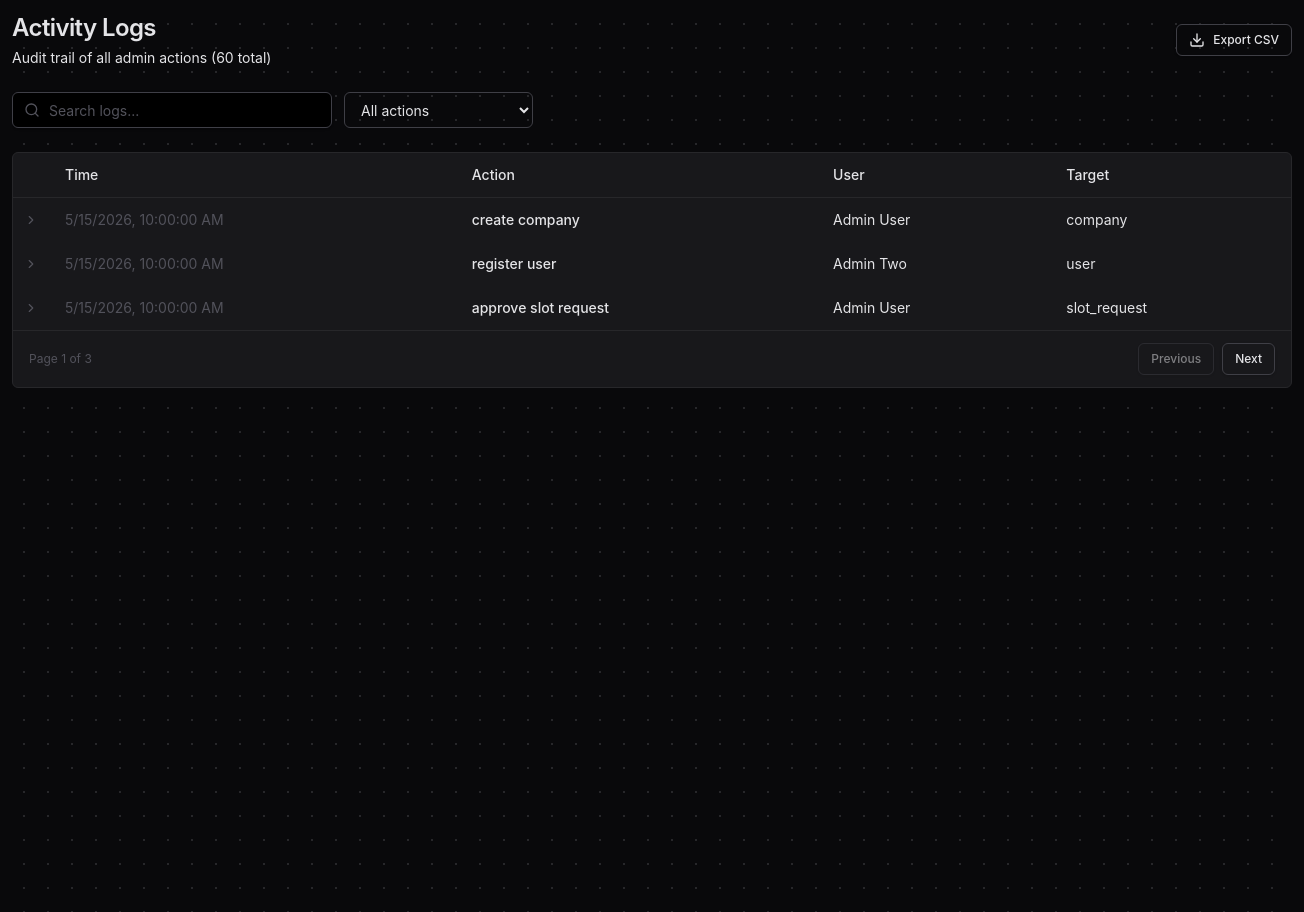
Scenario: AdminLogs › T-M3-3.D.1 - Loading, debounced search, action filters, pagination, empty states › pagination buttons navigate pages correctly
expect the text "create company" is shown: met, box [472, 211, 580, 228]
expect the button "Previous" is disabled: met, box [1138, 343, 1214, 375]
Click the button "Next": coordinates (1249, 359) [1222, 343, 1275, 375]
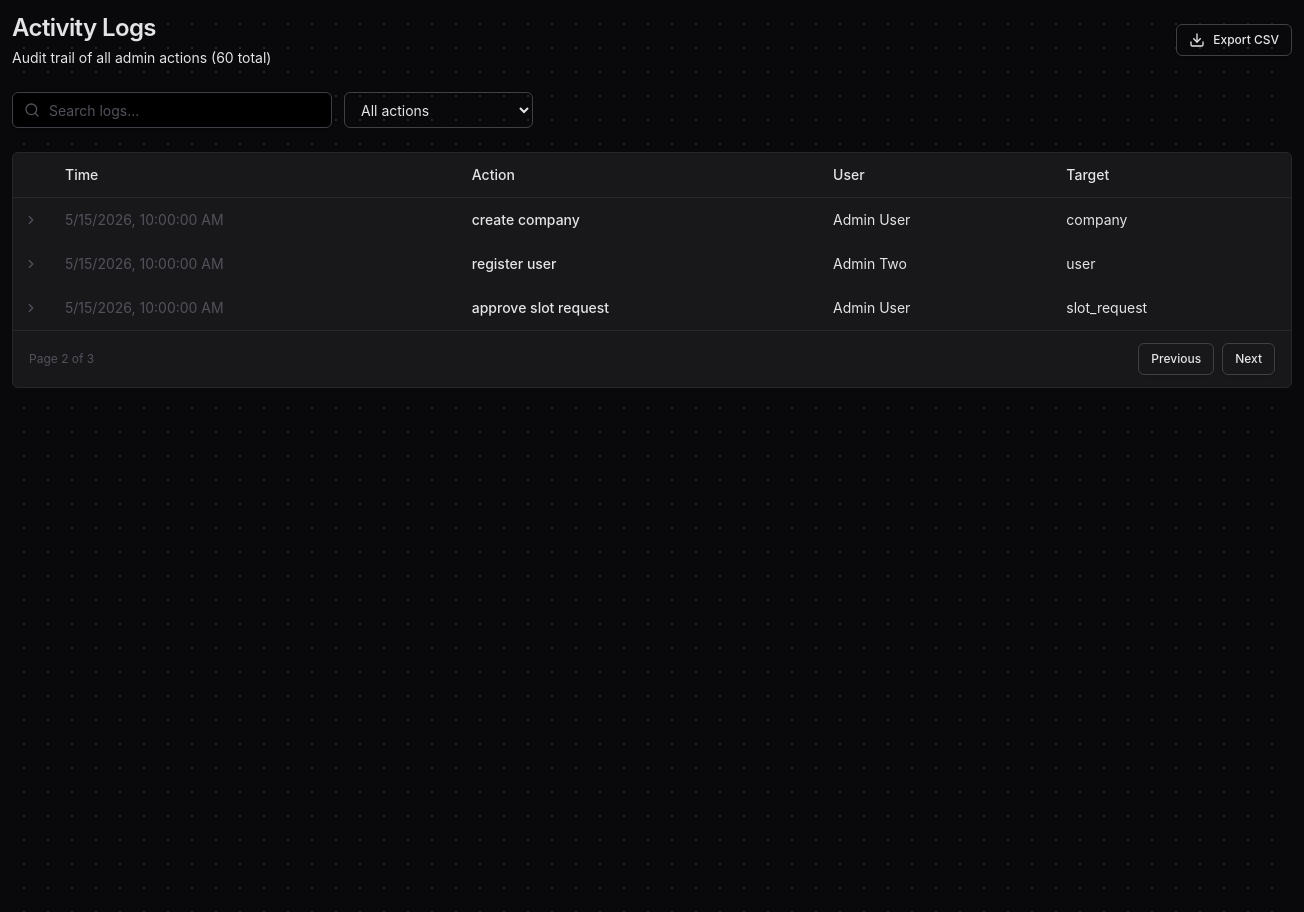
expect the text "Page 2 of 3" is shown: met, box [29, 351, 94, 367]
Click the button "Previous": coordinates (1176, 359) [1138, 343, 1214, 375]
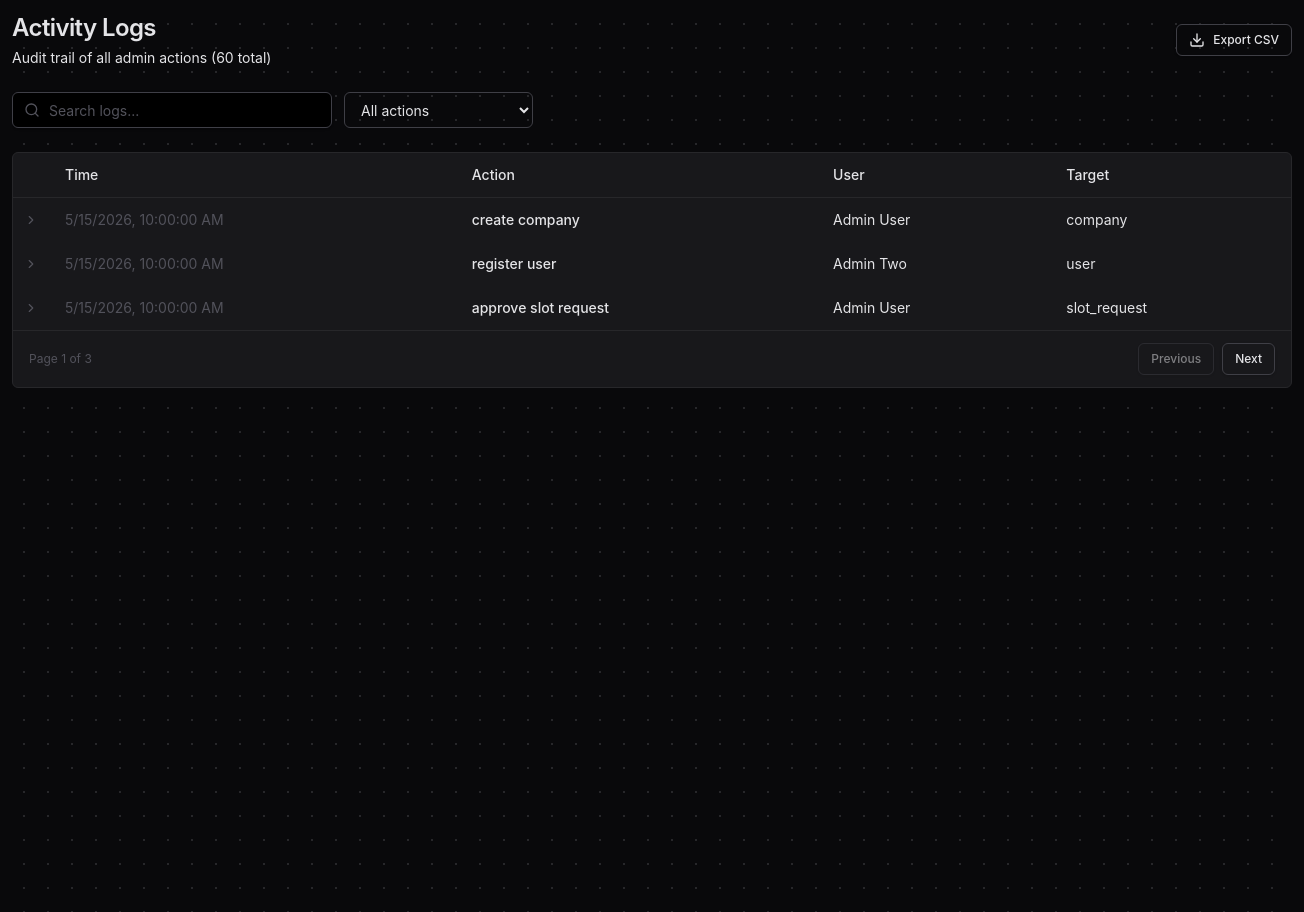
expect the text "Page 1 of 3" is shown: met, box [29, 351, 92, 367]
